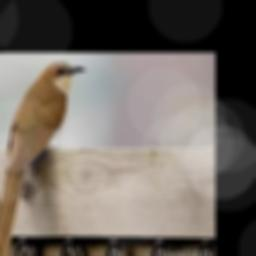Cuckoo: (0, 63, 87, 256)
